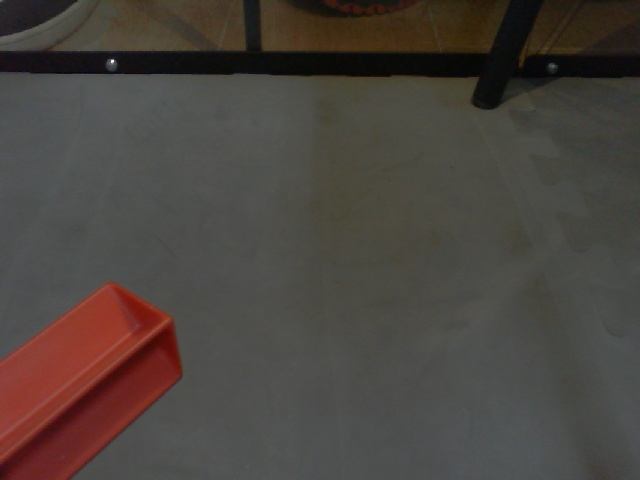RedSample: (1, 277, 188, 480)
